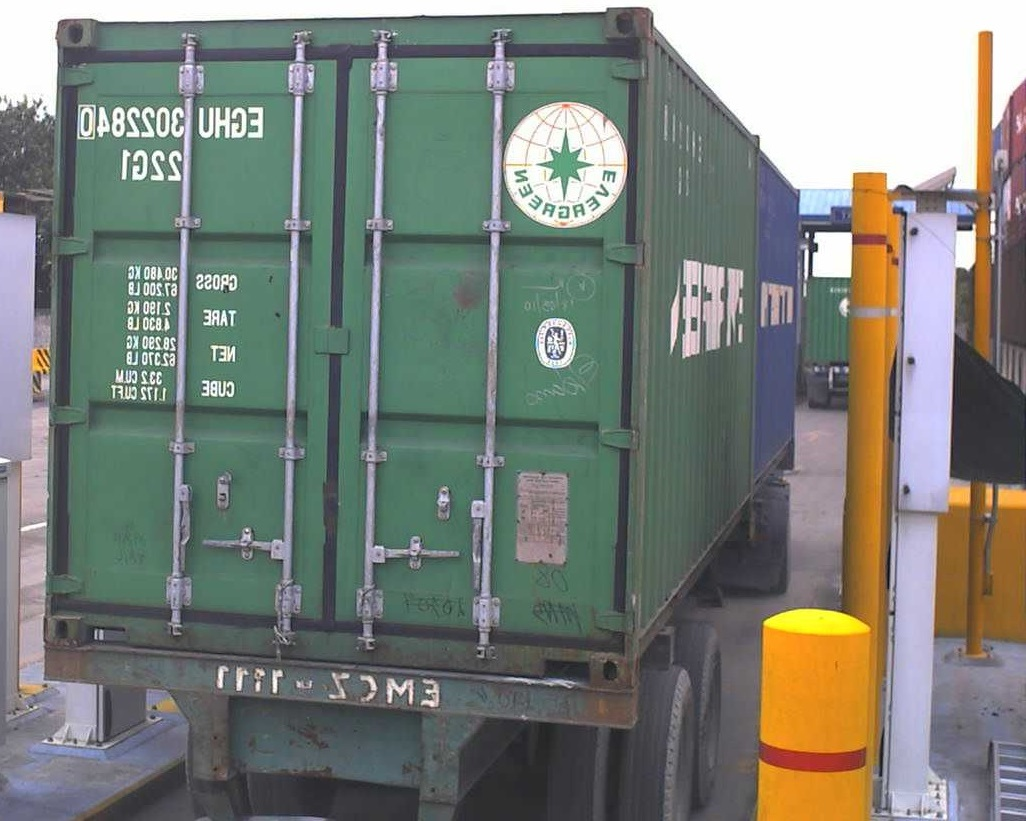container_door: (52, 16, 644, 688)
